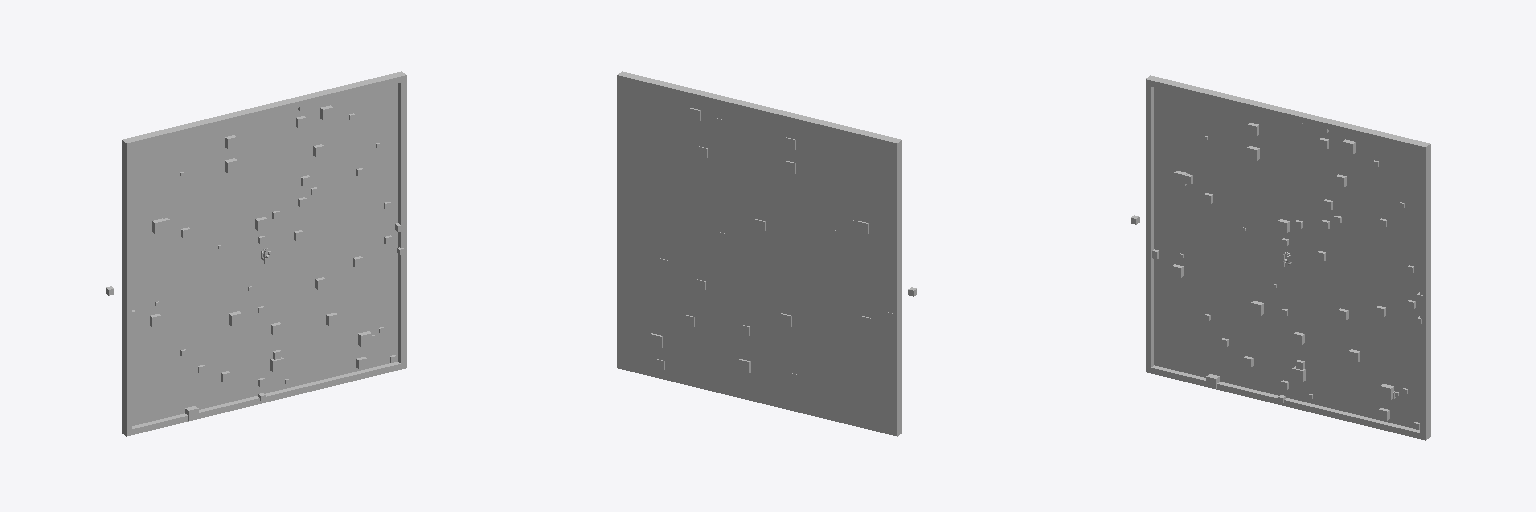
The model's file is bot.obj.
The picture shows the model from 3 angles: view 1: azimuth 30°, elevation 25°; view 2: azimuth 150°, elevation 25°; view 3: azimuth 330°, elevation 25°; orthographic projection.
Parts seen in each view (by area): view 1: Ground_ground_flat; view 2: Ground_ground_flat; view 3: Ground_ground_flat.
Part boxes in pixels (x1,y1,x2,y2): Ground_ground_flat: (122, 71, 406, 436); Ground_ground_flat: (617, 71, 901, 436); Ground_ground_flat: (1146, 75, 1430, 440).
Bounding box in the file's own units: 106 × 100 × 4.68.